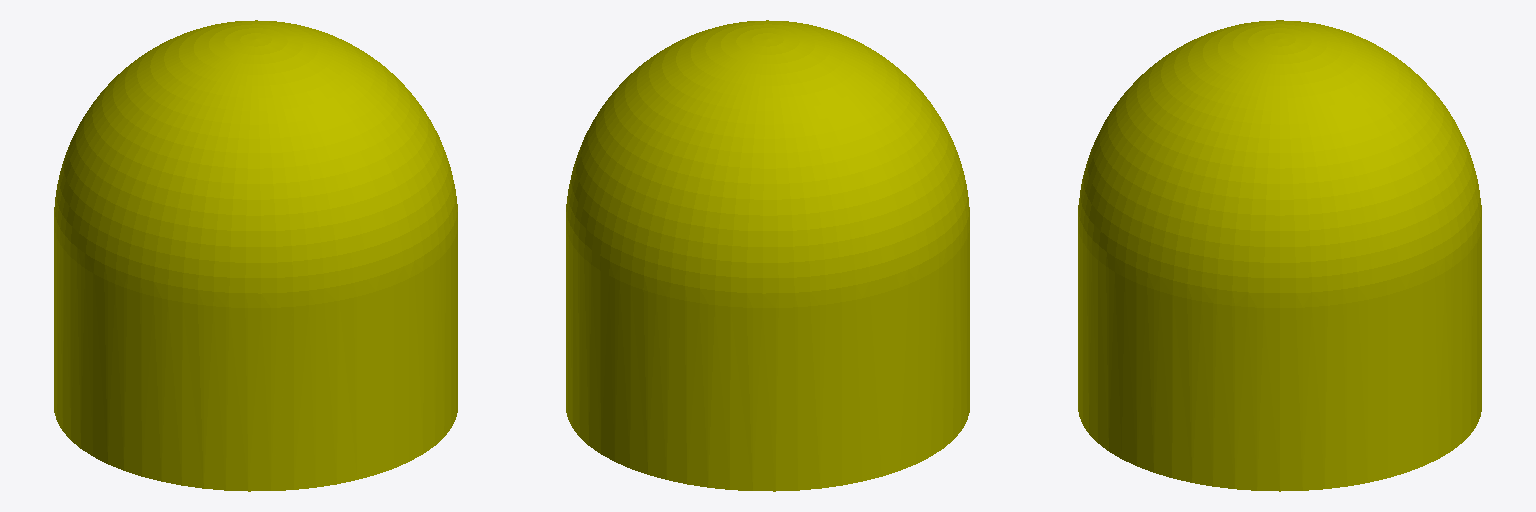
robot.urdf — bumps_50_green.urdf:
<?xml version="0.0" ?>
<robot name="bumps_50_green.urdf">
    <link name="baseLink">
        <contact>
            <lateral_friction value="0.2"/>
            <rolling_friction value="0.0001"/>
            <inertia_scaling value="3.0"/>
        </contact>
        <inertial>
            <origin rpy="0 0 0" xyz="0 0 0"/>
            <mass value="0.1"/>
            <inertia ixx="1" ixy="0" ixz="0" iyy="1" iyz="0" izz="1"/>
        </inertial>

        <visual>
            <origin rpy="0 0 0" xyz="0 0 0"/>
            <geometry>
                <mesh filename="bump_50.stl"/>
            </geometry>
            <material name="yellow">
                <color rgba="0.75 0.75 0 1"/>
            </material>
        </visual>
        <collision>
            <origin rpy="0 0 0" xyz="0 0 0"/>
            <geometry>
                <mesh filename="bump_50.stl"/>
            </geometry>
        </collision>
    </link>
</robot>

--- What the picture shows (computed from the rendered views, not written in the file) ---
The picture shows the robot from 3 angles, left to right: view 1: azimuth 30°, elevation 25°; view 2: azimuth 150°, elevation 25°; view 3: azimuth 270°, elevation 25°; orthographic projection.
Robot: bumps_50_green.urdf — 1 links, 0 joints (none); root link baseLink; default pose: every joint at zero.
Visible links, largest first — view 1: baseLink; view 2: baseLink; view 3: baseLink.
Boxes of the visible links, left/top/right/bottom form: baseLink: left=54, top=20, right=457, bottom=491; baseLink: left=566, top=20, right=969, bottom=491; baseLink: left=1078, top=20, right=1481, bottom=491.
Bounding box of the posed robot: 0.05 × 0.05 × 0.05 m (x, y, z).
1 mesh visuals loaded from 1 distinct referenced files (1 binary STL).